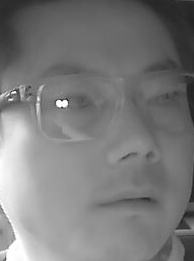glass: (36, 72, 123, 142), (134, 69, 194, 134)
mouth: (95, 184, 164, 223)
